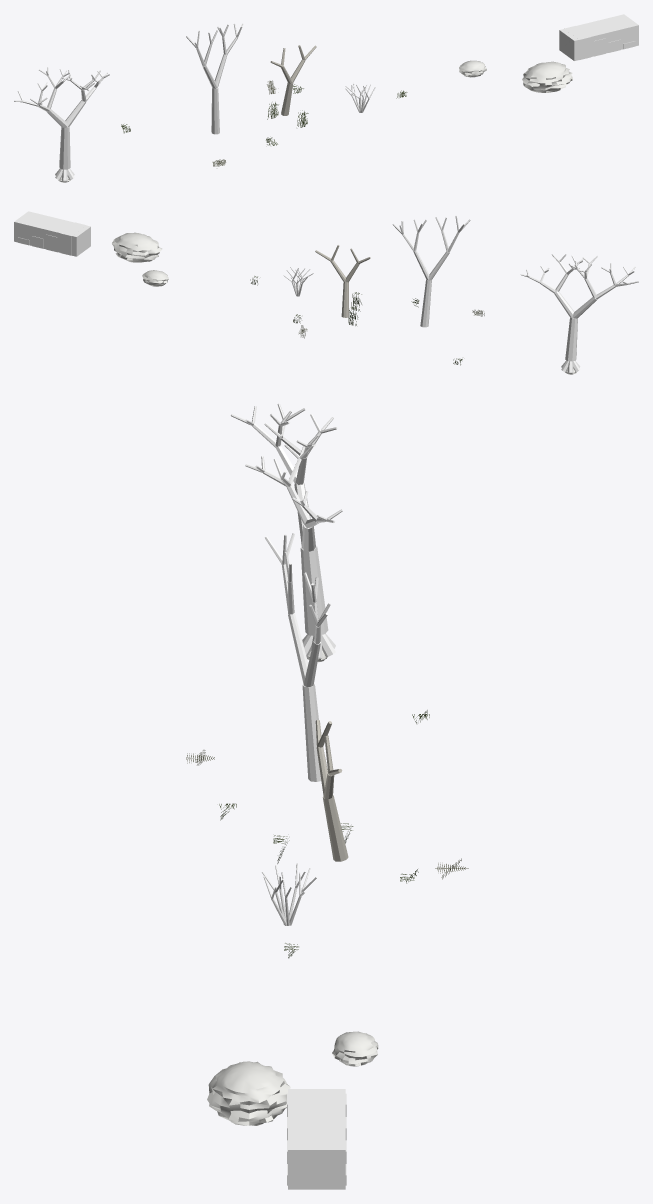
Rendered from tls_env_107_kit_nature_v001.fbx.
3 renders of one model, top to bottom at view 1: azimuth 30°, elevation 25°; view 2: azimuth 150°, elevation 25°; view 3: azimuth 270°, elevation 25°, orthographic. The views are drawn at different scales.
Visible parts, largest first — view 1: Nat_PeatBank, Nat_OakBare, Nat_RockL, Nat_Ash, Nat_Snag, Nat_RockM, Nat_Hazel; view 2: Nat_PeatBank, Nat_OakBare, Nat_Ash, Nat_RockL, Nat_Snag, Nat_RockM, Nat_Hazel; view 3: Nat_PeatBank, Nat_OakBare, Nat_RockL, Nat_Ash, Nat_Snag, Nat_RockM, Nat_Hazel.
Boxes of the visible parts, bbox=[...] form: Nat_PeatBank: bbox=[559, 14, 638, 60]; Nat_OakBare: bbox=[14, 67, 109, 181]; Nat_RockL: bbox=[522, 61, 572, 92]; Nat_Ash: bbox=[186, 23, 243, 134]; Nat_Snag: bbox=[270, 45, 316, 115]; Nat_RockM: bbox=[459, 60, 486, 77]; Nat_Hazel: bbox=[345, 82, 375, 112]; Nat_PeatBank: bbox=[14, 211, 90, 256]; Nat_OakBare: bbox=[520, 254, 638, 373]; Nat_Ash: bbox=[392, 215, 470, 327]; Nat_RockL: bbox=[112, 232, 162, 262]; Nat_Snag: bbox=[315, 245, 370, 317]; Nat_RockM: bbox=[142, 270, 168, 286]; Nat_Hazel: bbox=[283, 267, 313, 296]; Nat_PeatBank: bbox=[287, 1089, 346, 1189]; Nat_OakBare: bbox=[231, 403, 342, 658]; Nat_RockL: bbox=[207, 1061, 290, 1125]; Nat_Ash: bbox=[265, 533, 330, 781]; Nat_Snag: bbox=[315, 720, 348, 861]; Nat_RockM: bbox=[332, 1031, 378, 1066]; Nat_Hazel: bbox=[262, 863, 316, 925].
Size of what is drawn, in the model's own units: 29.11 by 5.9 by 5.98.
